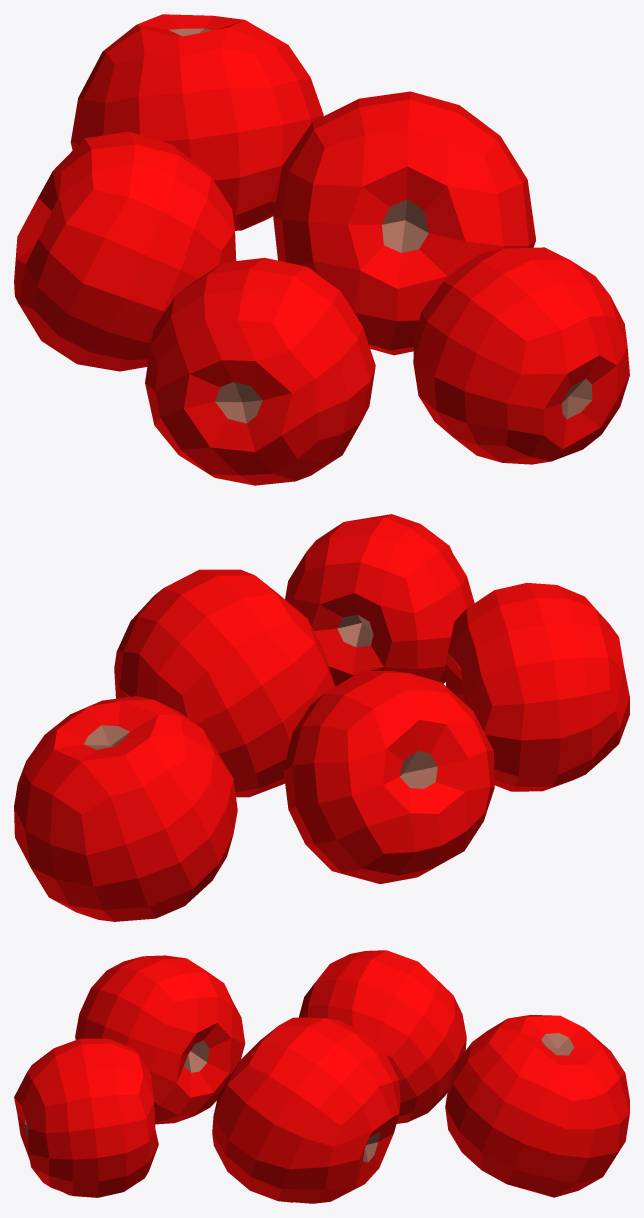
Rendered from apples.glb.
The picture shows the model from 3 angles, top to bottom: view 1: azimuth 30°, elevation 25°; view 2: azimuth 150°, elevation 25°; view 3: azimuth 270°, elevation 25°; orthographic projection. The views are drawn at different scales.
Parts seen in each view (by area): view 1: SM_fruit_apple_yecan_brown_light_0; view 2: SM_fruit_apple_yecan_brown_light_0; view 3: SM_fruit_apple_yecan_brown_light_0.
Boxes of the visible parts, x1,y1,x2,y2 form: SM_fruit_apple_yecan_brown_light_0: (14,14,629,485); SM_fruit_apple_yecan_brown_light_0: (14,514,629,921); SM_fruit_apple_yecan_brown_light_0: (14,950,629,1203).
Bounding box in the file's own units: 104 × 53.1 × 167.
2 materials, 2 textured.
